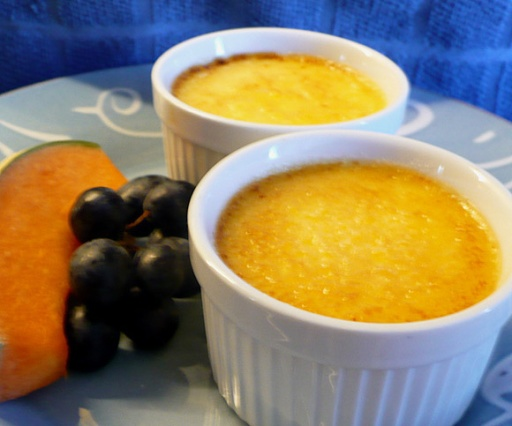background: (0, 92, 162, 268), (172, 105, 400, 216), (137, 33, 310, 82)
